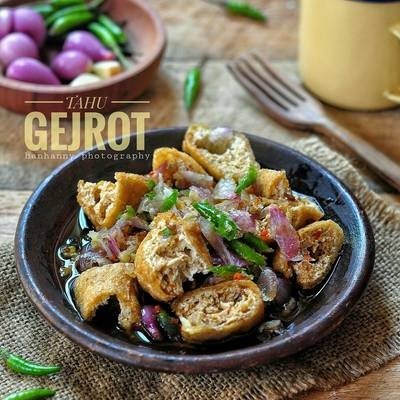tahu_gejrot: (71, 121, 345, 344)
